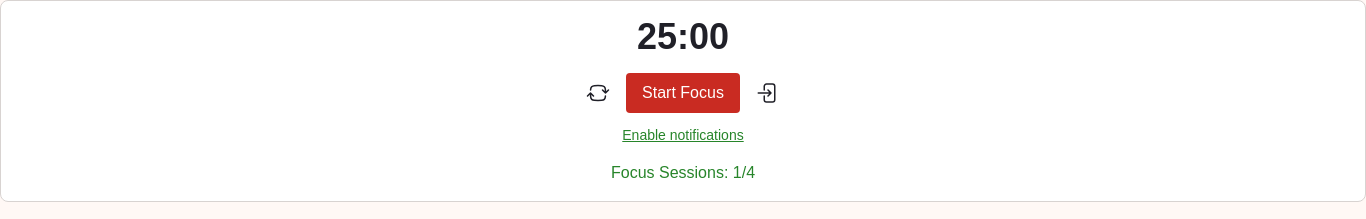
Test: Timer Component › skips to next session when skip icon is clicked
Click the button named "Skip to the next break" at (768, 93), box left=756, top=81, right=780, bottom=105
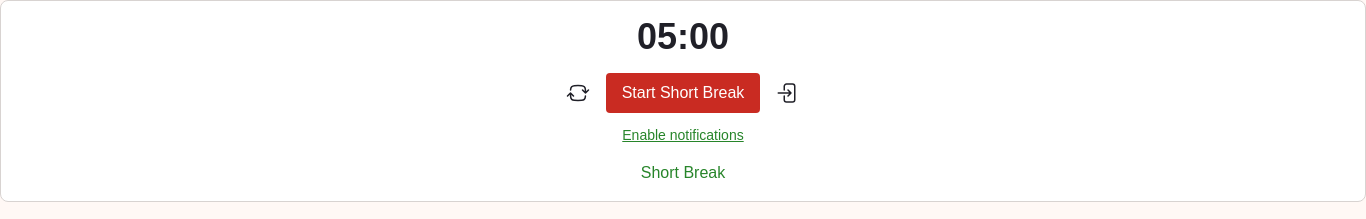
expect the text "05:00" is shown: met, box left=637, top=17, right=729, bottom=57
expect the text "Short Break" is shown: met, box left=641, top=161, right=725, bottom=185
